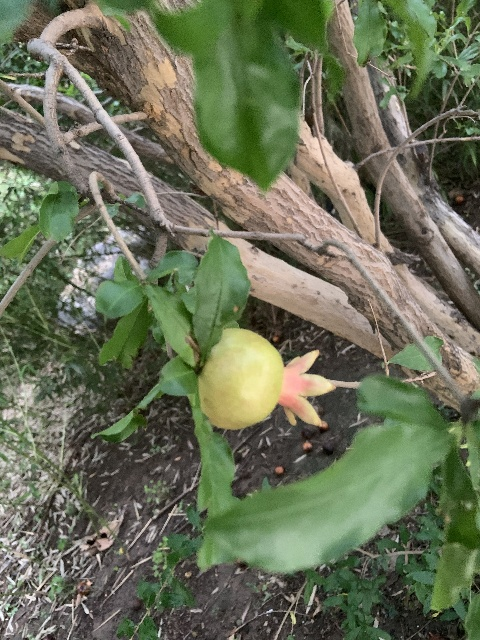mid-growth: (197, 327, 336, 432)
